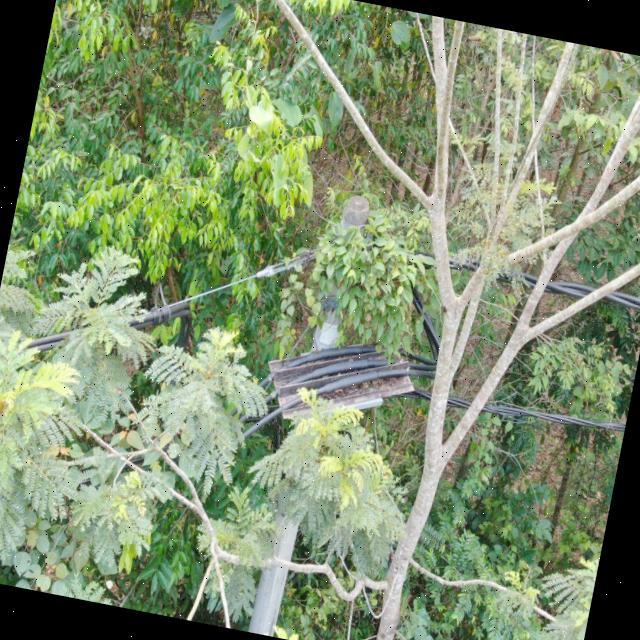critical vegetation: (274, 175, 448, 378)
